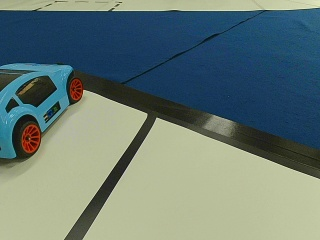car: (0, 65, 84, 158)
